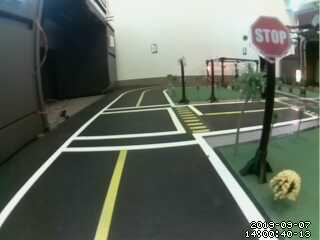Stop_Sign: (248, 10, 297, 72)
